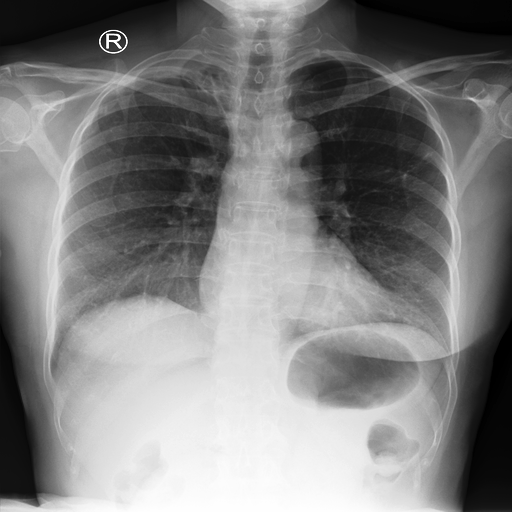Calcification: (109, 50, 237, 106)
Infiltration: (177, 64, 241, 130)
Other lesion: (109, 50, 237, 106)
Pneumothorax: (357, 141, 439, 200), (177, 64, 241, 130)
